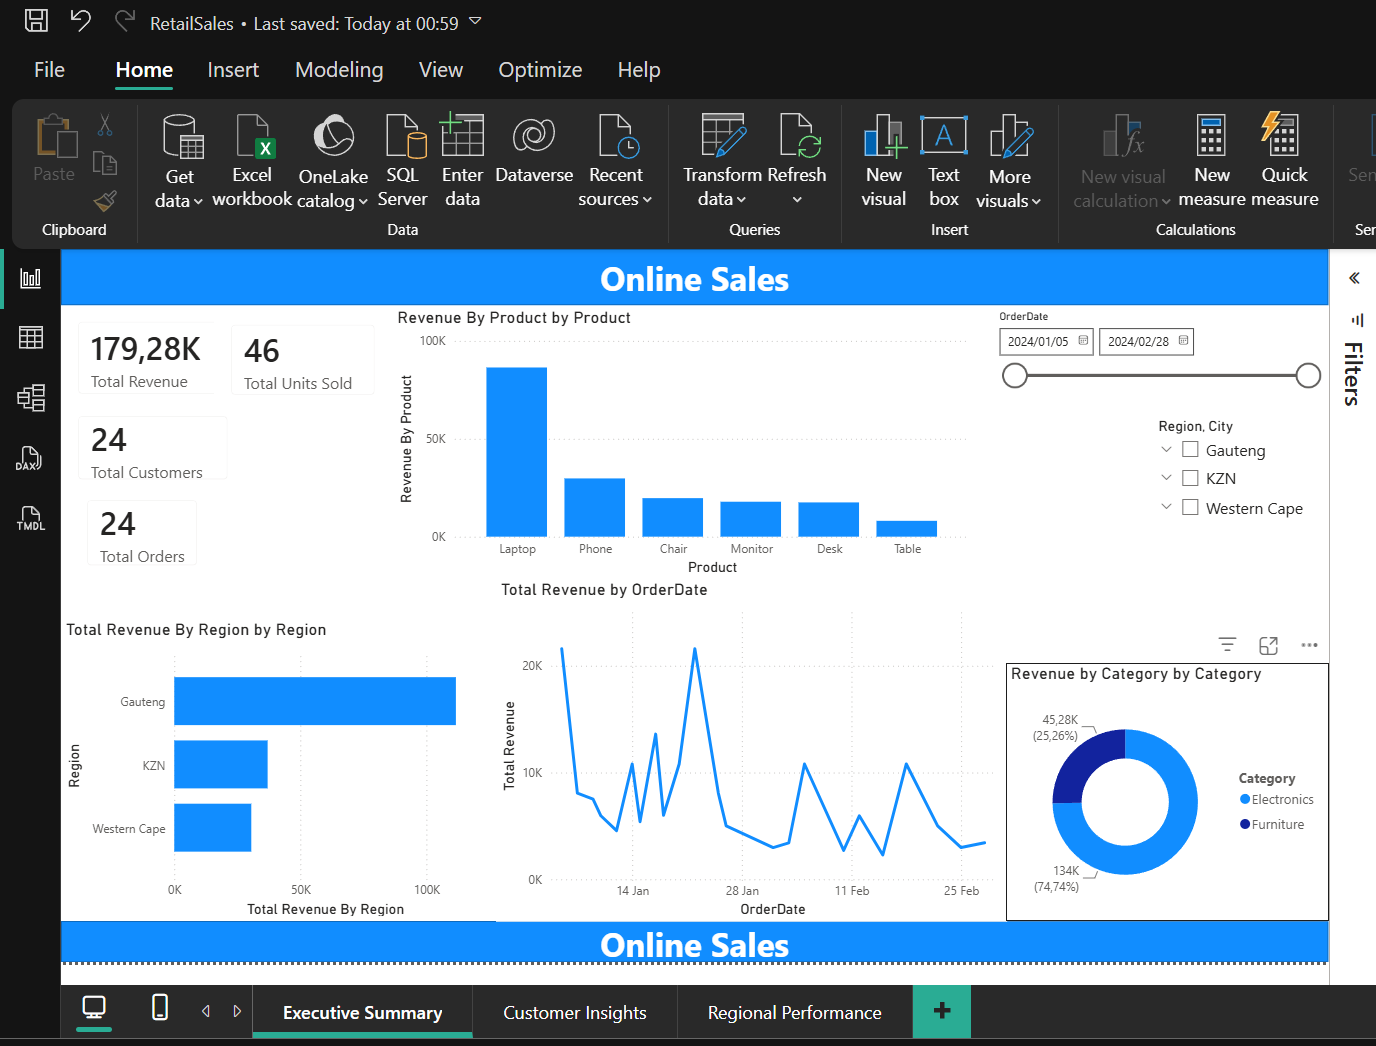

Layout of this report page (visuals, bound fields, positions):
{"tool":"powerbi","page":{"name":"Executive Summary","canvas":[1280,720],"ordinal":0},"visuals":[{"type":"cardVisual","fields":{"Data":["Count(V_CustomerSalesSummary.CustomerID)"]},"box":[0,151.2,185.2,98.3],"z":0},{"type":"cardVisual","fields":{"Data":["Sum(Products.Sales)"]},"box":[0,56.7,185.2,107.7],"z":1},{"type":"shape","title":"Online Shop","box":[0,0,1279.4,56.7],"z":2},{"type":"shape","title":"Online Shop","box":[0,678.4,1279.4,41.6],"z":3},{"type":"slicer","fields":{"Values":["SaleTable_Clean_Dedup.OrderDate"]},"box":[933.6,56.7,345.8,94.5],"z":4},{"type":"cardVisual","fields":{"Data":["Sum(V_CustomerSalesSummary.TotalOrders)"]},"box":[9.4,236.2,145.5,100.2],"z":5},{"type":"slicer","fields":{"Values":["SaleTable_Clean_Dedup.Region","SaleTable_Clean_Dedup.City"]},"box":[1094.2,164.4,185.2,253.2],"z":6},{"type":"cardVisual","fields":{"Data":["Sum(SaleTable_Clean_Dedup.Quantity)"]},"box":[155,58.6,179.5,105.8],"z":7},{"type":"lineChart","fields":{"Category":["SaleTable_Clean_Dedup.OrderDate"],"Y":["Sum(SaleTable_Clean_Dedup.Sales)"]},"box":[438.4,332.6,515.9,345.8],"z":8},{"type":"clusteredBarChart","fields":{"Category":["SaleTable_Clean_Dedup.Region"],"Y":["Sum(SaleTable_Clean_Dedup.Sales)"]},"box":[0,374.2,438.4,304.3],"z":9},{"type":"donutChart","fields":{"Category":["SaleTable_Clean_Dedup.Category"],"Y":["Sum(SaleTable_Clean_Dedup.Sales)"]},"box":[954.3,417.6,325,260.8],"z":10},{"type":"clusteredColumnChart","fields":{"Category":["Products.Product"],"Y":["Sum(SaleTable_Clean_Dedup.Sales)"]},"box":[334.5,58.6,587.7,274],"z":11}]}

Visuals, with their boxes on the page's 1280x720 design canvas (x1, y1, x2, y2). These are canvas units, not pixel positions in the 1376x1046 screenshot, which may show the page scaled, cropped or inside an application window:
cardVisual - Count(V_CustomerSalesSummary.CustomerID): BBox(0, 151, 185, 250)
cardVisual - Sum(Products.Sales): BBox(0, 57, 185, 164)
"Online Shop" shape: BBox(0, 0, 1279, 57)
"Online Shop" shape: BBox(0, 678, 1279, 720)
slicer - SaleTable_Clean_Dedup.OrderDate: BBox(934, 57, 1279, 151)
cardVisual - Sum(V_CustomerSalesSummary.TotalOrders): BBox(9, 236, 155, 336)
slicer - SaleTable_Clean_Dedup.Region x SaleTable_Clean_Dedup.City: BBox(1094, 164, 1279, 418)
cardVisual - Sum(SaleTable_Clean_Dedup.Quantity): BBox(155, 59, 334, 164)
lineChart - SaleTable_Clean_Dedup.OrderDate x Sum(SaleTable_Clean_Dedup.Sales): BBox(438, 333, 954, 678)
clusteredBarChart - SaleTable_Clean_Dedup.Region x Sum(SaleTable_Clean_Dedup.Sales): BBox(0, 374, 438, 678)
donutChart - SaleTable_Clean_Dedup.Category x Sum(SaleTable_Clean_Dedup.Sales): BBox(954, 418, 1279, 678)
clusteredColumnChart - Products.Product x Sum(SaleTable_Clean_Dedup.Sales): BBox(334, 59, 922, 333)
